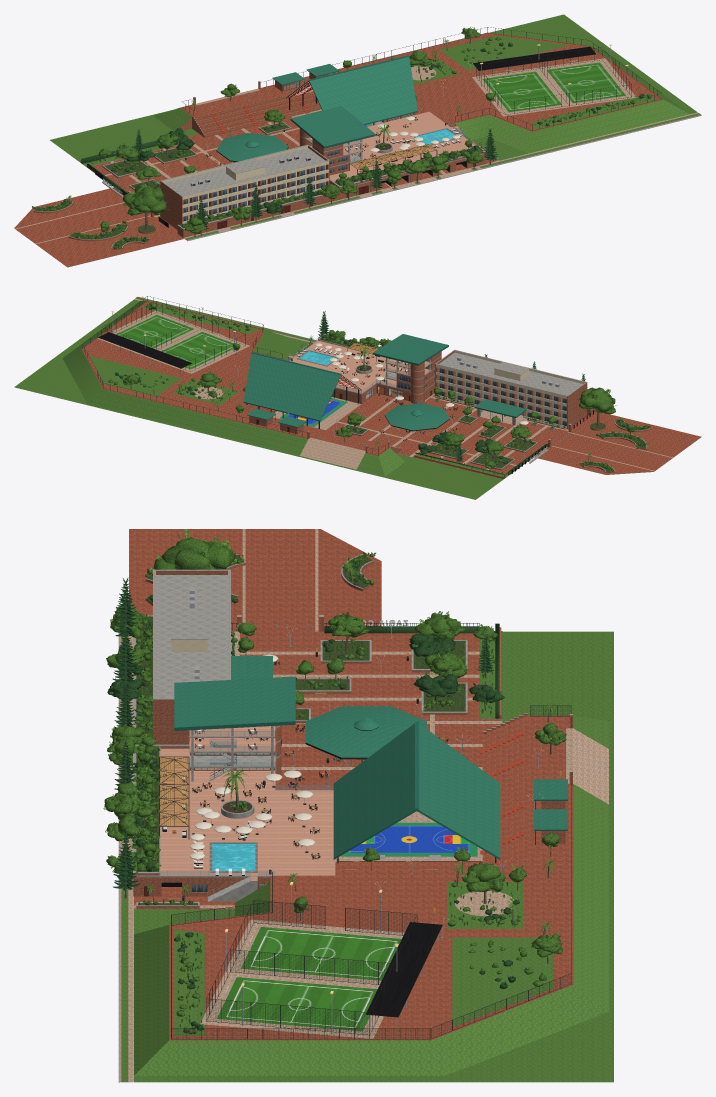
File: zaria.glb
3 renders of one model, top to bottom at view 1: azimuth 30°, elevation 25°; view 2: azimuth 150°, elevation 25°; view 3: azimuth 270°, elevation 25°, orthographic. The views are drawn at different scales.
Parts seen in each view (by area): view 1: zaria_pave_red, zaria_lawn, zaria_roof_green, zaria_brick, zaria_leaves_a, zaria_solids, zaria_concrete, zaria_pave_buff, zaria_pitch5, zaria_foliage, zaria_deck, zaria_render (+6 smaller); view 2: zaria_pave_red, zaria_lawn, zaria_roof_green, zaria_solids, zaria_pave_buff, zaria_brick, zaria_concrete, zaria_leaves_a, zaria_pitch5, zaria_render, zaria_deck, zaria_foliage (+5 smaller); view 3: zaria_pave_red, zaria_lawn, zaria_roof_green, zaria_leaves_a, zaria_solids, zaria_deck, zaria_pave_buff, zaria_concrete, zaria_pitch5, zaria_foliage, zaria_fence, zaria_leaves_b (+6 smaller).
Boxes of the visible parts, x1=… form: zaria_pave_red: x1=14, y1=32, x2=662, y2=267; zaria_lawn: x1=50, y1=14, x2=700, y2=239; zaria_roof_green: x1=216, y1=57, x2=417, y2=161; zaria_brick: x1=33, y1=72, x2=498, y2=249; zaria_leaves_a: x1=32, y1=28, x2=651, y2=248; zaria_solids: x1=87, y1=27, x2=661, y2=233; zaria_concrete: x1=34, y1=60, x2=701, y2=248; zaria_pave_buff: x1=15, y1=58, x2=701, y2=243; zaria_pitch5: x1=482, y1=62, x2=625, y2=112; zaria_foliage: x1=32, y1=27, x2=652, y2=247; zaria_deck: x1=305, y1=111, x2=475, y2=181; zaria_render: x1=162, y1=145, x2=328, y2=223; zaria_pave_red: x1=81, y1=301, x2=701, y2=479; zaria_lawn: x1=14, y1=297, x2=508, y2=499; zaria_roof_green: x1=243, y1=334, x2=526, y2=430; zaria_solids: x1=82, y1=296, x2=593, y2=473; zaria_pave_buff: x1=97, y1=298, x2=672, y2=474; zaria_brick: x1=244, y1=337, x2=649, y2=478; zaria_concrete: x1=114, y1=296, x2=648, y2=479; zaria_leaves_a: x1=108, y1=303, x2=646, y2=472; zaria_pitch5: x1=116, y1=315, x2=233, y2=369; zaria_render: x1=436, y1=350, x2=584, y2=428; zaria_deck: x1=288, y1=340, x2=431, y2=393; zaria_foliage: x1=111, y1=303, x2=650, y2=476; zaria_pave_red: x1=129, y1=529, x2=573, y2=1040; zaria_lawn: x1=120, y1=631, x2=613, y2=1082; zaria_roof_green: x1=174, y1=656, x2=567, y2=857; zaria_leaves_a: x1=104, y1=537, x2=566, y2=1034; zaria_solids: x1=131, y1=587, x2=571, y2=1039; zaria_deck: x1=160, y1=726, x2=335, y2=880; zaria_pave_buff: x1=119, y1=529, x2=608, y2=1082; zaria_concrete: x1=118, y1=554, x2=572, y2=1082; zaria_pitch5: x1=217, y1=927, x2=401, y2=1031; zaria_foliage: x1=103, y1=529, x2=566, y2=1032; zaria_fence: x1=173, y1=706, x2=570, y2=1038; zaria_leaves_b: x1=107, y1=561, x2=520, y2=1030.
Size of the model in its own units: 259 by 19.85 by 101.
Materials: 28 (28 with a texture image).
